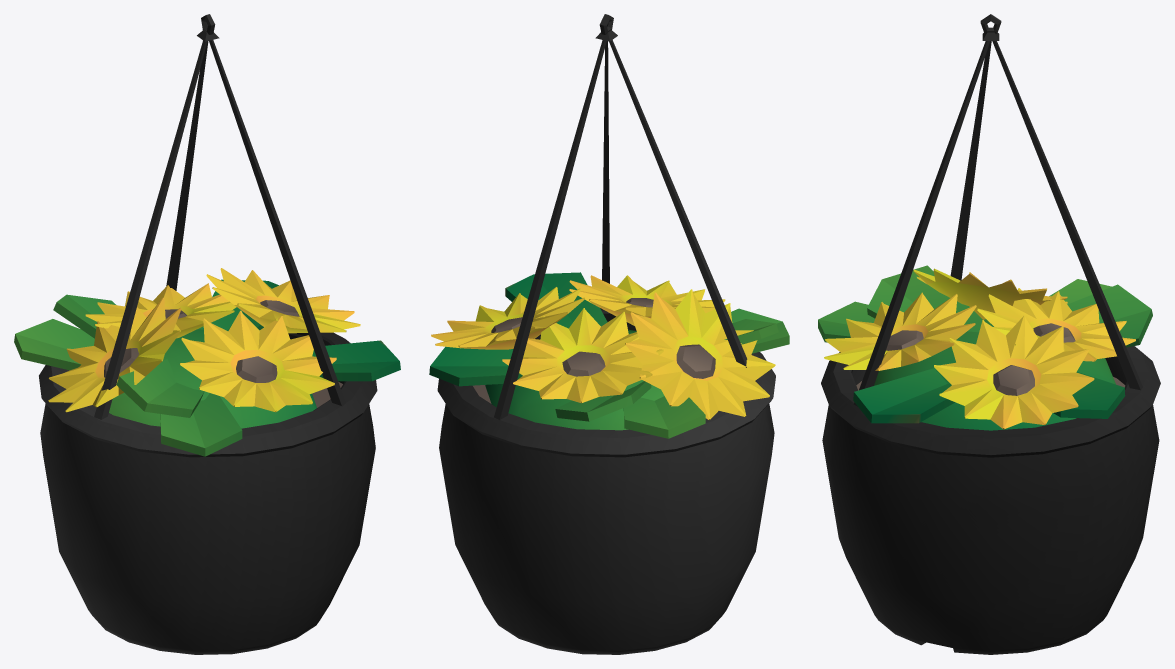
Rendered from HangingFlowerPotYellow.fbx.
The picture shows the model from 3 angles, left to right: view 1: azimuth 30°, elevation 25°; view 2: azimuth 150°, elevation 25°; view 3: azimuth 270°, elevation 25°; orthographic projection.
Parts seen in each view (by area): view 1: HangingFlowerPotYellow; view 2: HangingFlowerPotYellow; view 3: HangingFlowerPotYellow.
Part boxes in pixels (left/top/right/bottom): HangingFlowerPotYellow: left=14, top=14, right=400, bottom=654; HangingFlowerPotYellow: left=429, top=14, right=789, bottom=654; HangingFlowerPotYellow: left=818, top=14, right=1160, bottom=654.
Size of the model in its own units: 0.8135 by 1.5 by 0.7905.
